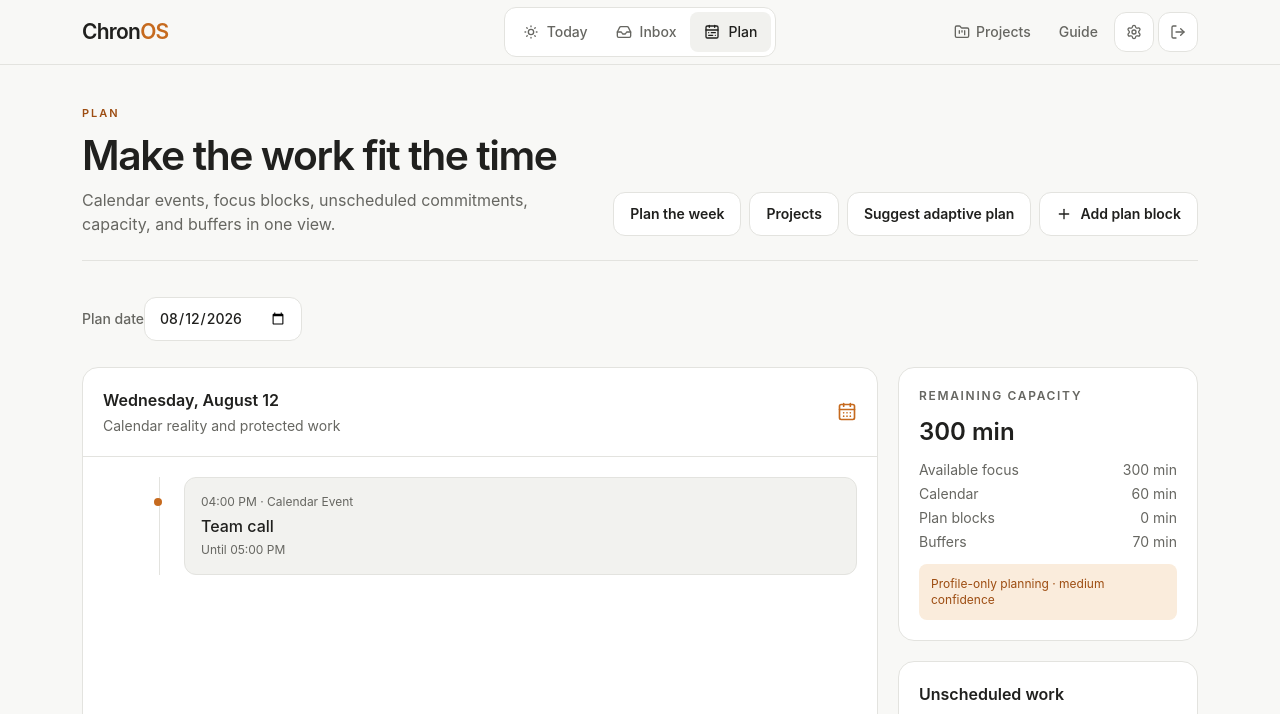
creates a plan block and invalidates the plan
Click the button "Add plan block": (1119, 214) x1=1039 y1=192 x2=1198 y2=236
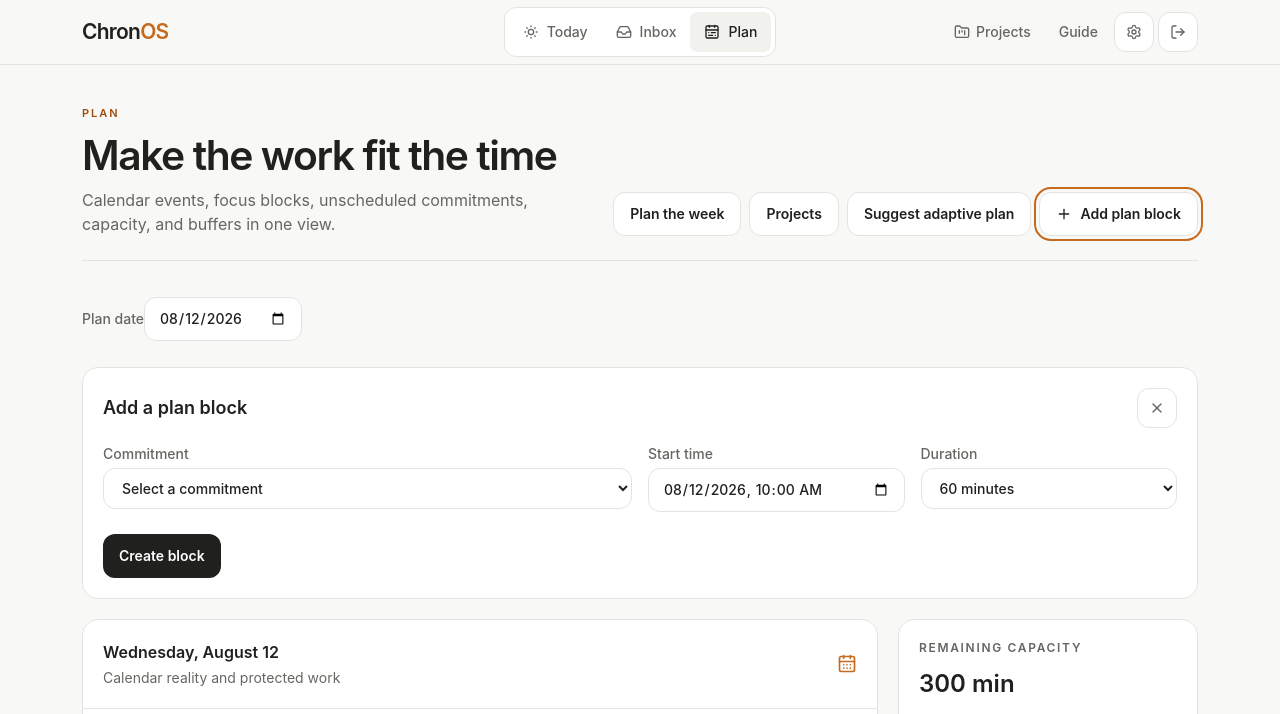
Select "Authentication regression fix" in the dropdown labelled "Commitment": (368, 489) x1=103 y1=468 x2=632 y2=510
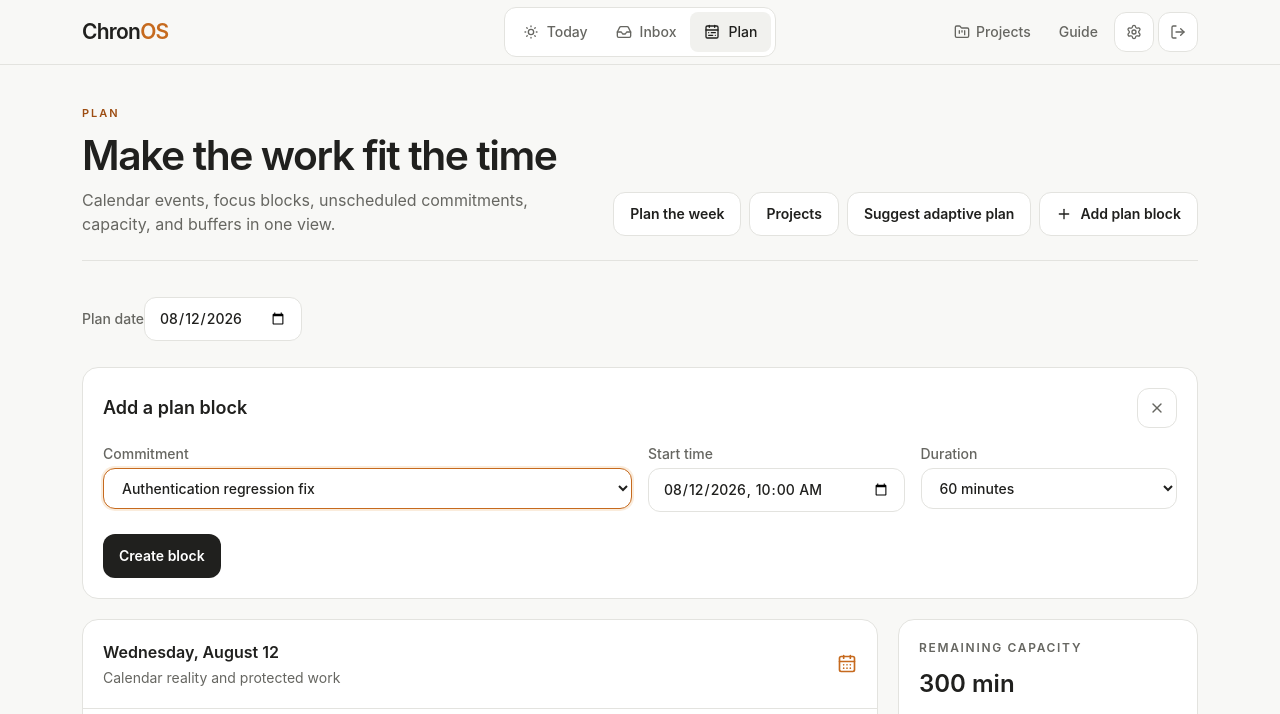
Click the button "Create block": (162, 556) x1=103 y1=534 x2=221 y2=578
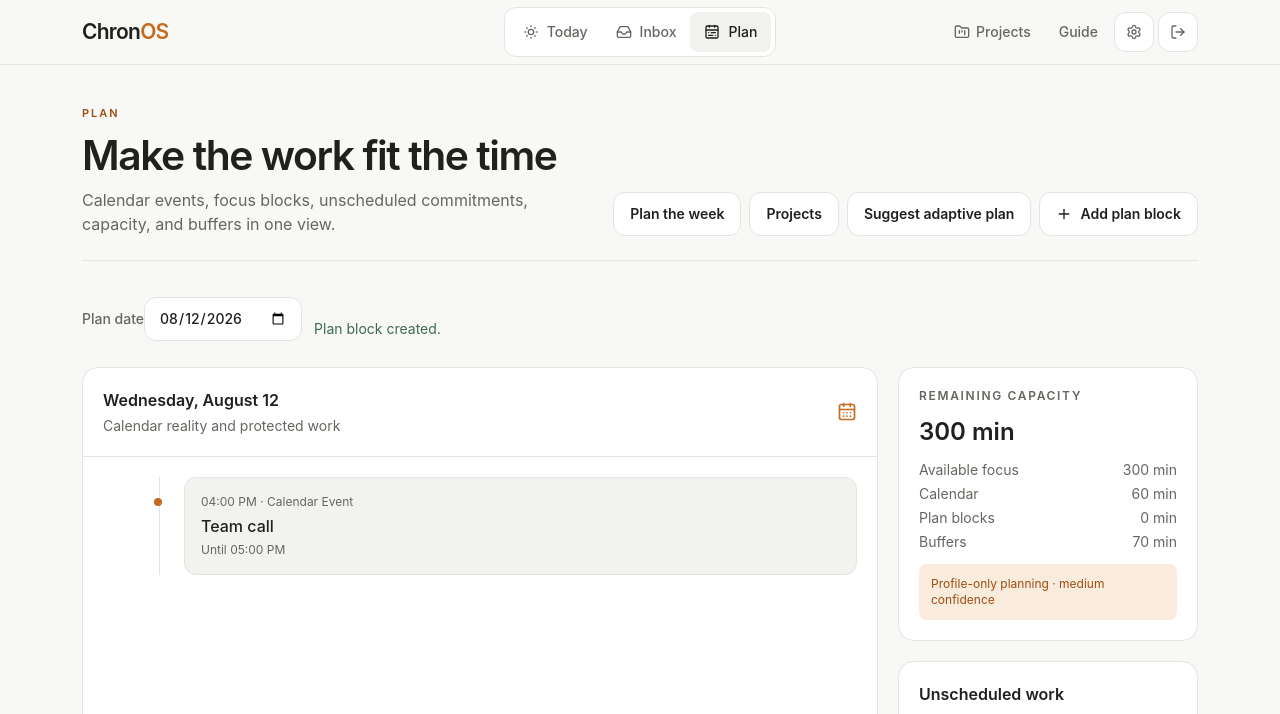
Expected: the text "Plan block created." is shown, x1=314 y1=320 x2=441 y2=348
